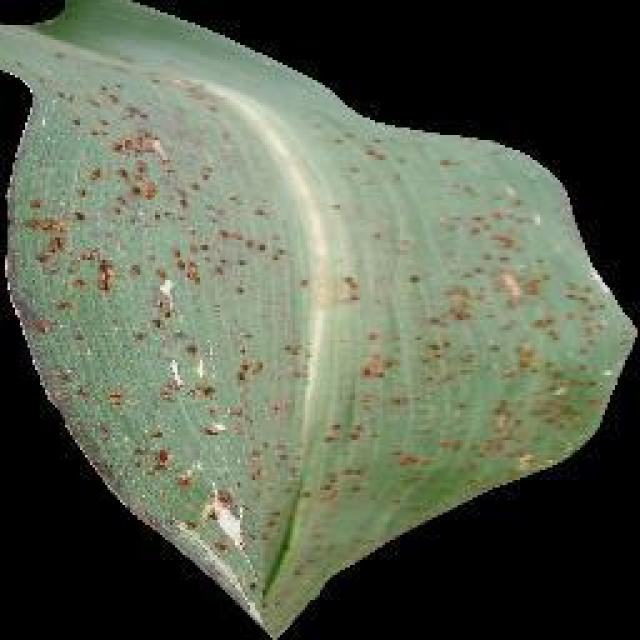Corn Common Rust: (64, 185, 584, 592)
